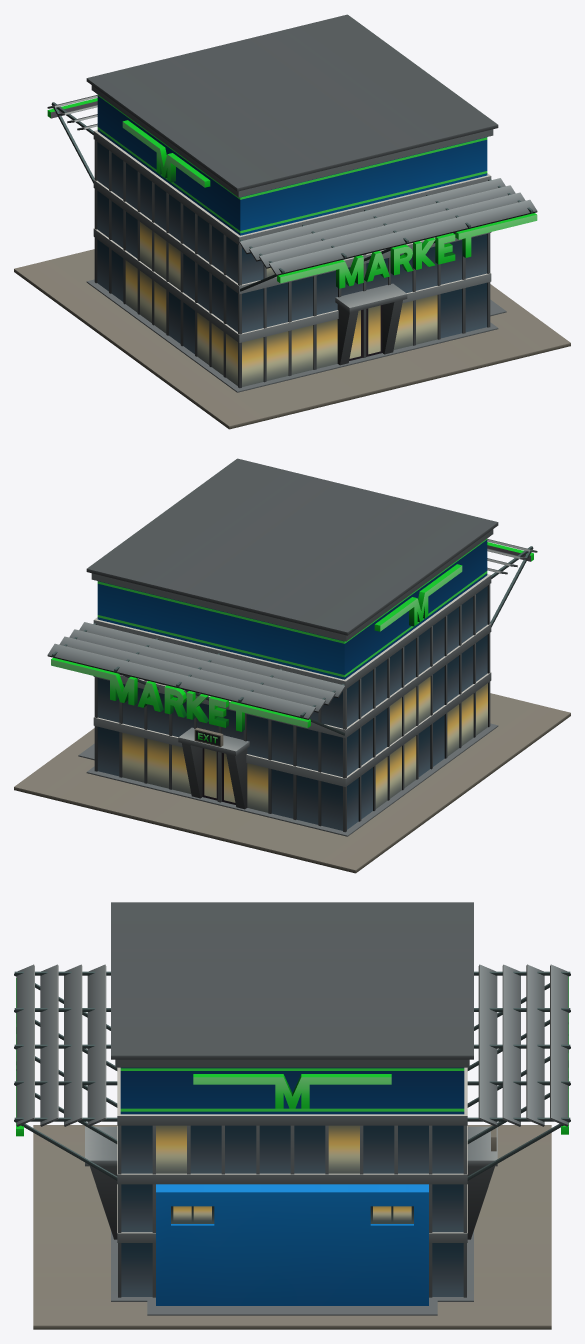
Rendered from BLD1210015.fbx.
3 renders of one model, top to bottom at view 1: azimuth 30°, elevation 25°; view 2: azimuth 150°, elevation 25°; view 3: azimuth 270°, elevation 25°, orthographic. The views are drawn at different scales.
Visible parts, largest first — view 1: smBLD1210015; view 2: smBLD1210015; view 3: smBLD1210015.
Boxes of the visible parts, <box> form: smBLD1210015: <box>14,14,570,429</box>; smBLD1210015: <box>14,458,570,873</box>; smBLD1210015: <box>14,902,570,1329</box>.
Bounding box in the file's own units: 1534 × 891 × 1798.
Materials: 1 (1 with a texture image).
